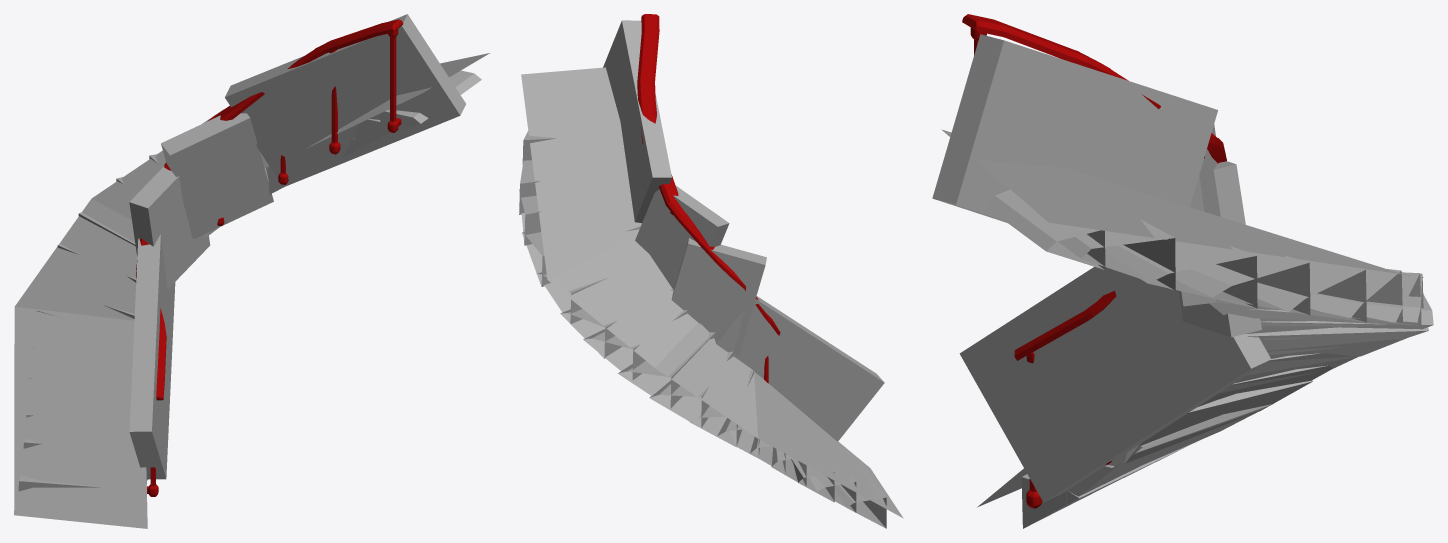
The model's file is Asset_stairs2.fbx.
3 views of the same model, side by side, from view 1: azimuth 30°, elevation 25°; view 2: azimuth 150°, elevation 25°; view 3: azimuth 270°, elevation 25° (orthographic). The views are drawn at different scales.
Parts seen in each view (by area): view 1: pPlane1, pCube57, pCube56, pCube54, pCube55, polySurface84, polySurface110, polySurface114, polySurface105; view 2: pPlane1, pCube54, polySurface114, pCube57, pCube55, pCube56, polySurface84, polySurface110, polySurface105; view 3: pCube54, pCube57, polySurface114, polySurface110, pPlane1, pCube55, polySurface84, polySurface105, pCube56.
Boxes of the visible parts, box(x1,y1,x2,y2) form: pPlane1: box(14, 53, 489, 528); pCube57: box(225, 14, 465, 187); pCube56: box(161, 113, 273, 238); pCube54: box(129, 234, 175, 479); pCube55: box(129, 166, 210, 289); polySurface84: box(207, 19, 403, 225); polySurface110: box(266, 70, 481, 194); polySurface114: box(18, 154, 269, 491); polySurface105: box(136, 162, 171, 496); pPlane1: box(521, 67, 903, 518); pCube54: box(714, 296, 884, 441); polySurface114: box(536, 272, 886, 528); pCube57: box(603, 20, 671, 223); pCube55: box(671, 238, 766, 354); pCube56: box(635, 186, 729, 289); polySurface84: box(637, 14, 701, 247); polySurface110: box(519, 131, 640, 286); polySurface105: box(678, 215, 780, 383); pCube54: box(959, 267, 1271, 502); pCube57: box(932, 34, 1217, 222); polySurface114: box(1021, 267, 1433, 528); polySurface110: box(986, 189, 1366, 322); pPlane1: box(941, 129, 1423, 507); pCube55: box(1178, 161, 1261, 337); polySurface84: box(962, 14, 1226, 162); polySurface105: box(1014, 138, 1226, 508); pCube56: box(1181, 124, 1220, 306).
Bounding box in the file's own units: 24.96 × 24.1 × 15.94.
